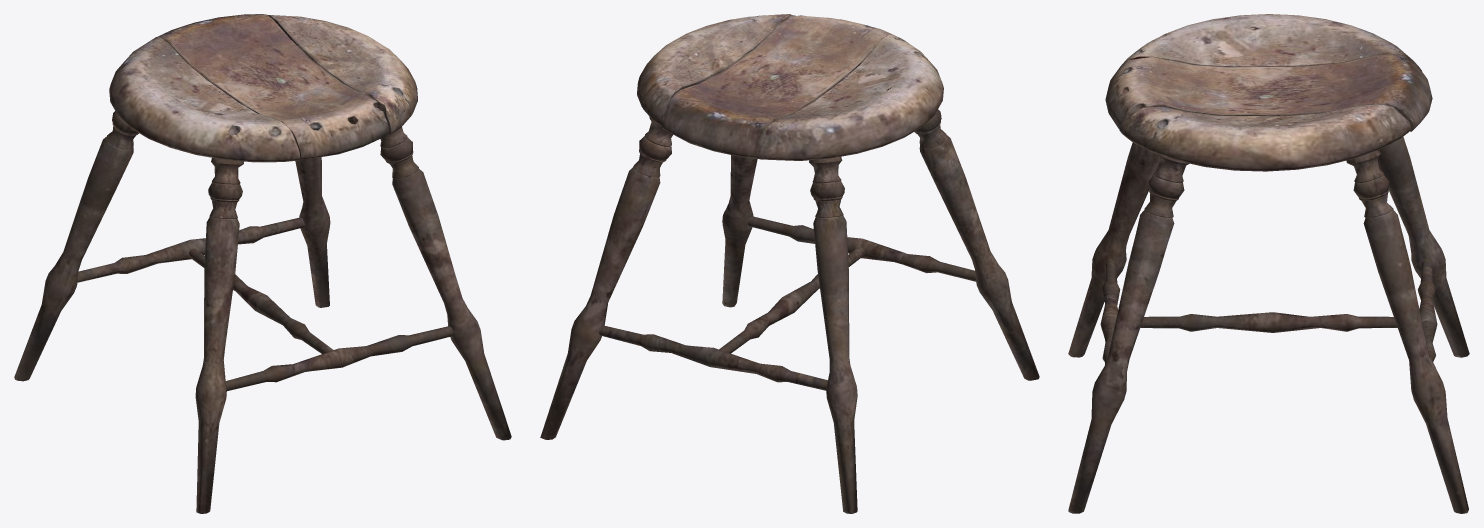
Rendered from wooden_stool_01.glb.
3 renders of one model, left to right at view 1: azimuth 30°, elevation 25°; view 2: azimuth 150°, elevation 25°; view 3: azimuth 270°, elevation 25°, orthographic. The views are drawn at different scales.
Visible parts, largest first — view 1: wooden_stool_01; view 2: wooden_stool_01; view 3: wooden_stool_01.
Boxes of the visible parts, left/top/right/bottom form: wooden_stool_01: left=14, top=14, right=511, bottom=513; wooden_stool_01: left=540, top=14, right=1039, bottom=513; wooden_stool_01: left=1068, top=14, right=1469, bottom=513.
Bounding box in the file's own units: 0.4246 × 0.4365 × 0.4417.
Materials: 1 (1 with a texture image).
